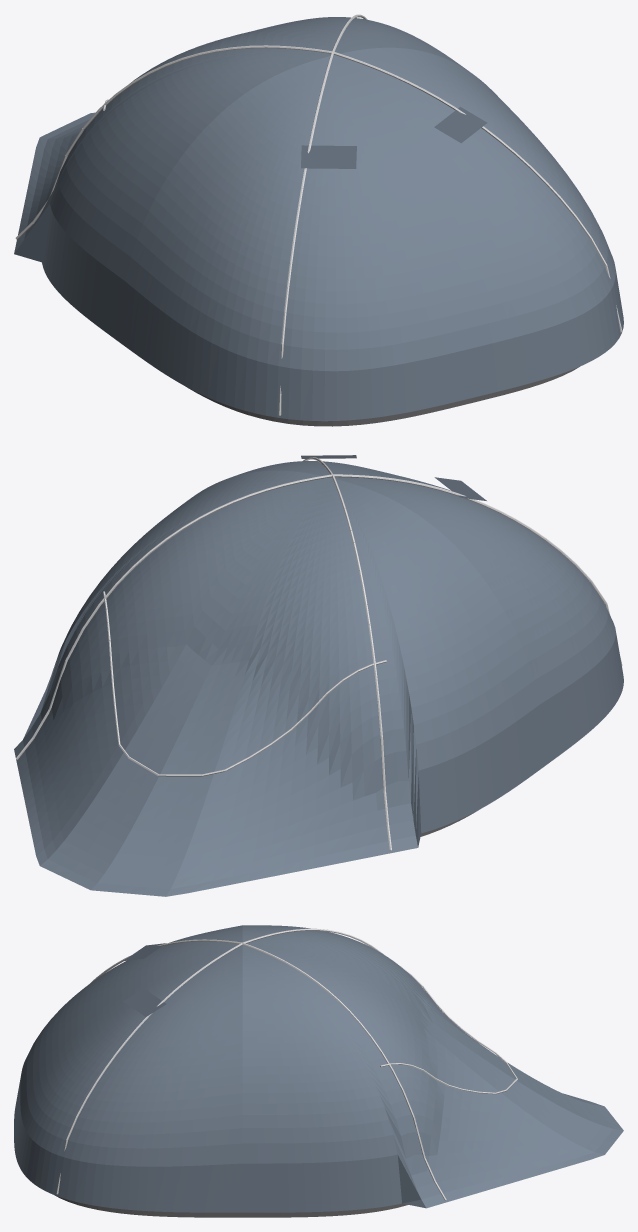
File: g_tingwei_v2.glb
3 renders of one model, top to bottom at view 1: azimuth 30°, elevation 25°; view 2: azimuth 150°, elevation 25°; view 3: azimuth 270°, elevation 25°, orthographic. The views are drawn at different scales.
Parts seen in each view (by area): view 1: roof, door_front, inner_2, roof_1, roof_2; view 2: roof, door_front; view 3: roof, door_front, inner_2, roof_2.
Part boxes in pixels (x1,y1,x2,y2): roof: (47,17,623,421); door_front: (14,47,205,277); inner_2: (187,366,579,426); roof_1: (301,145,356,168); roof_2: (434,107,487,143); roof: (14,461,623,871); door_front: (52,548,449,896); roof: (14,925,609,1212); door_front: (305,927,623,1148); inner_2: (55,1195,407,1217); roof_2: (123,988,166,1016).
Size of the model in its own units: 1.96 by 1.11 by 3.08.
